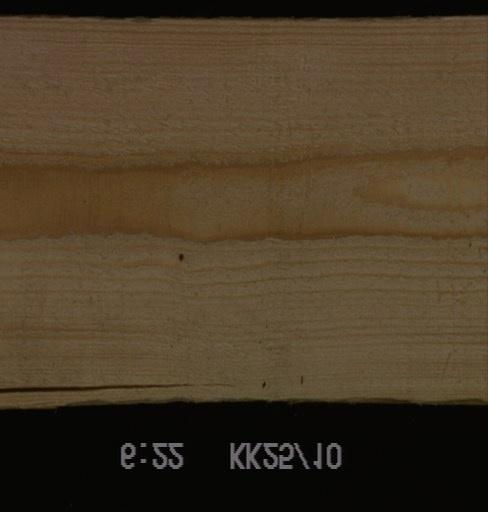small_knot: (173, 248, 188, 264)
split: (0, 378, 240, 400)
